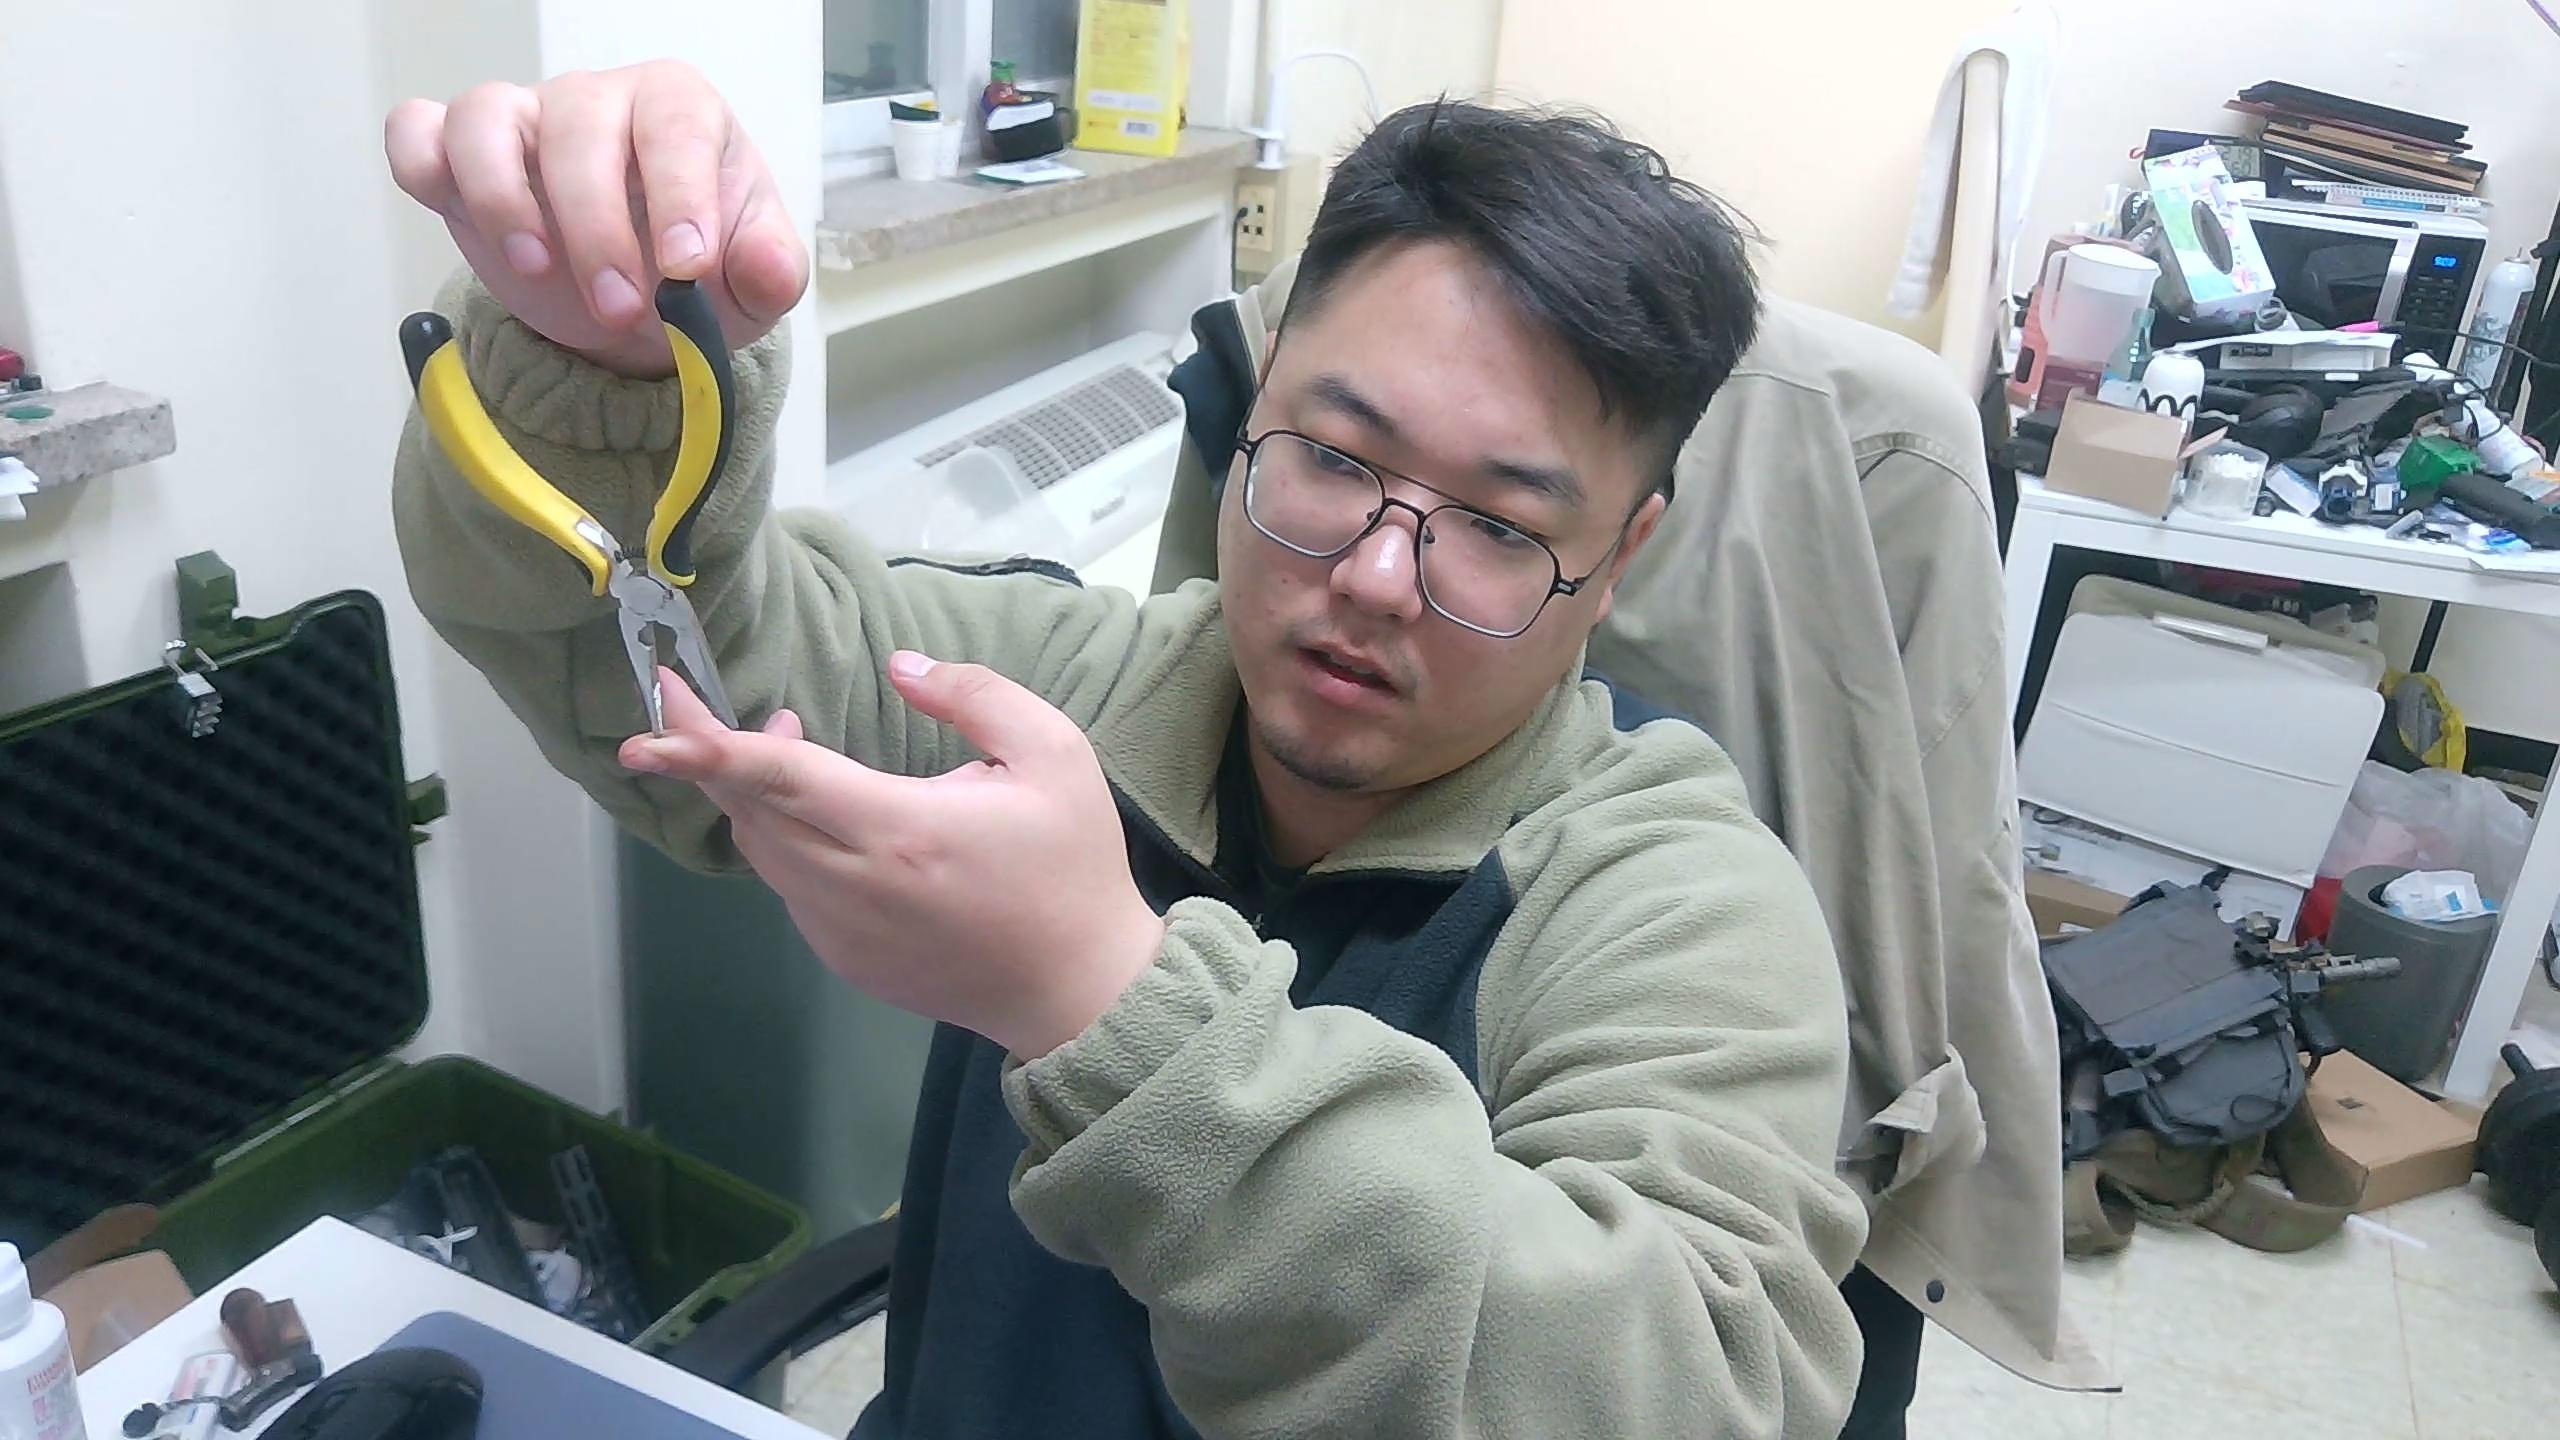earphone: (401, 271, 745, 740)
